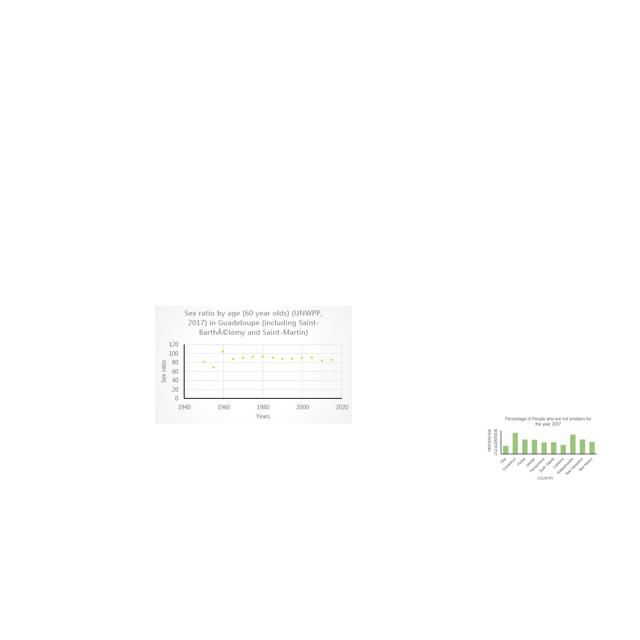Graph: (155, 306, 352, 424), (485, 414, 599, 483)
